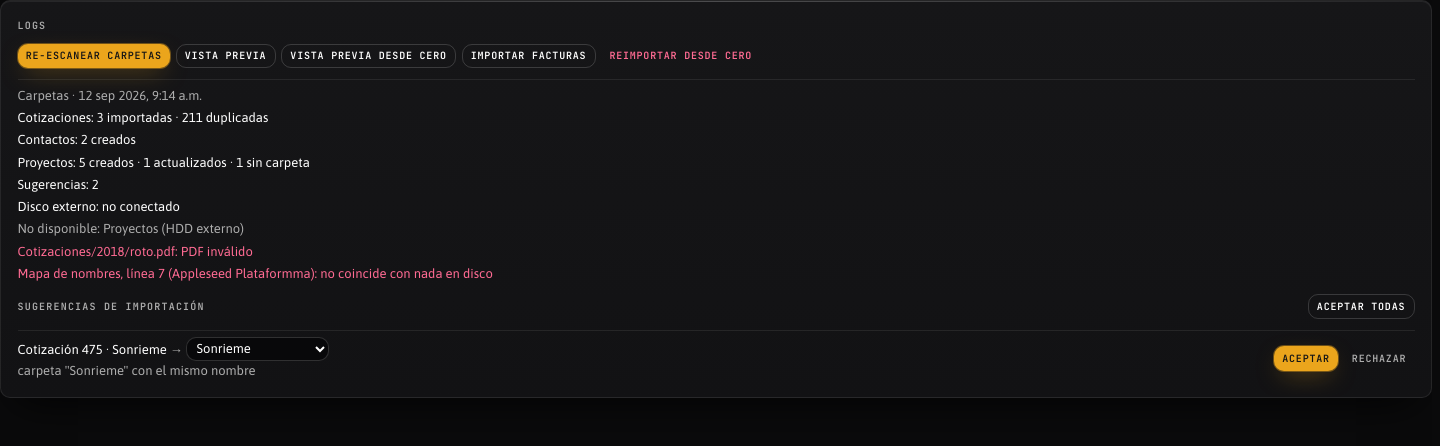
Configuración → Logs › shows why an answer was refused
The width and height of the screenshot is (1440, 446).
Select "Sonrieme Branding" in the dropdown named "Vincular a" at (258, 349), box [186,336,329,361]
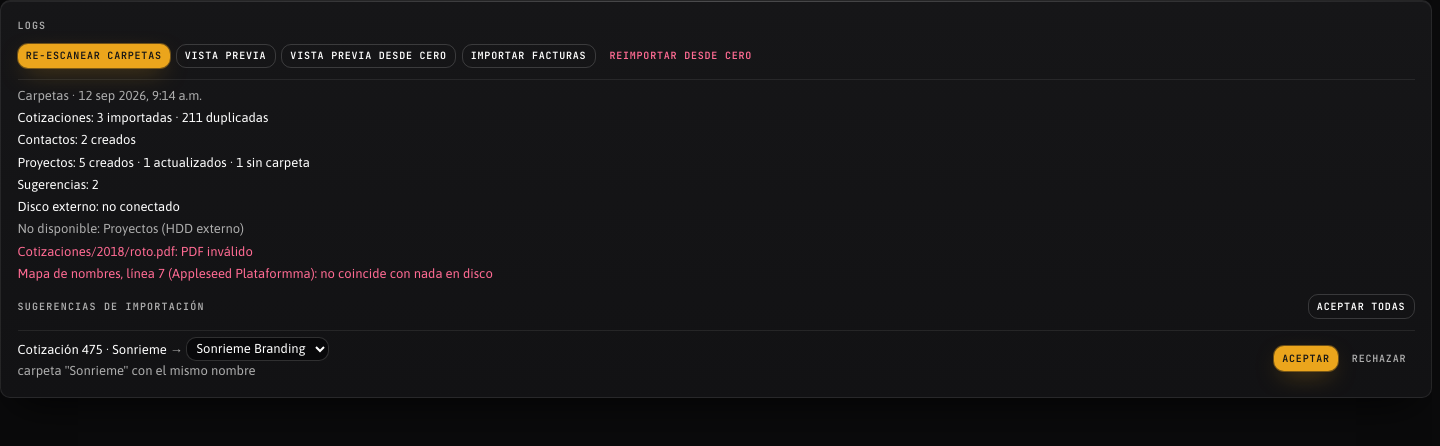
Click the button "Aceptar" at (1306, 359), box [1274,346,1338,371]
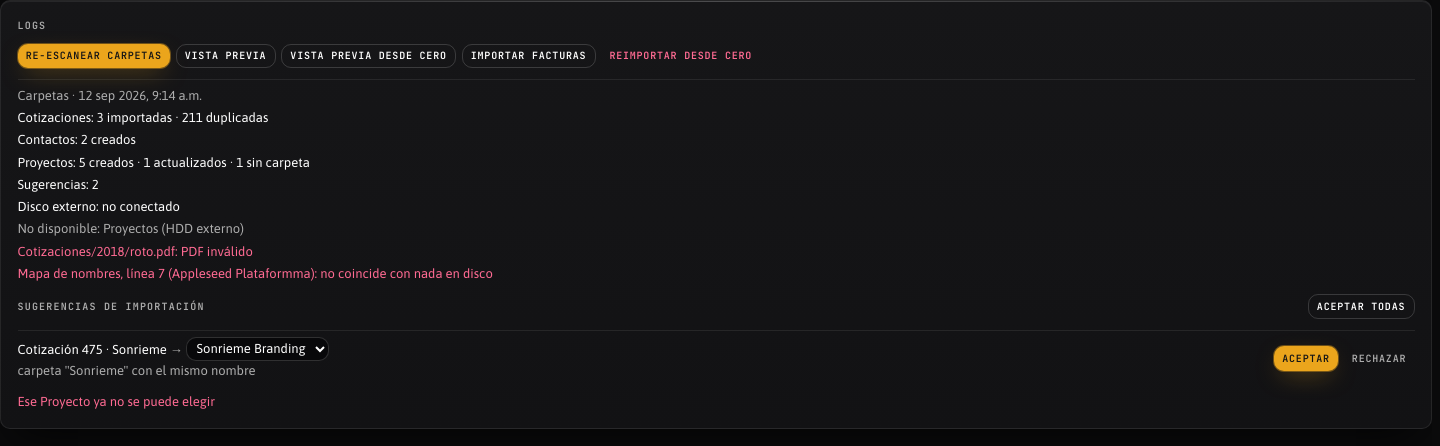
Expected: the text "Cotización 475 · Sonrieme" is shown, [18,341,167,356]
Result: the message reads "Ese Proyecto ya no se puede elegir" at [18,394,215,409]
